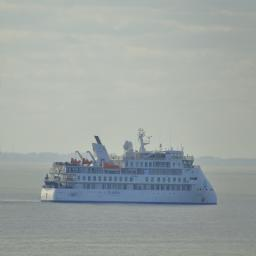cruises: (40, 127, 221, 207)
